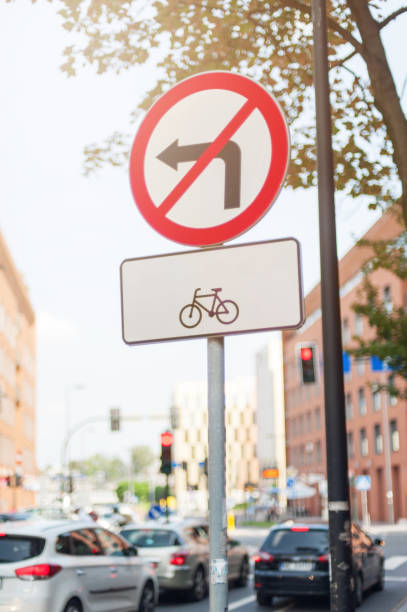sola_girilmez: (128, 70, 289, 247)
